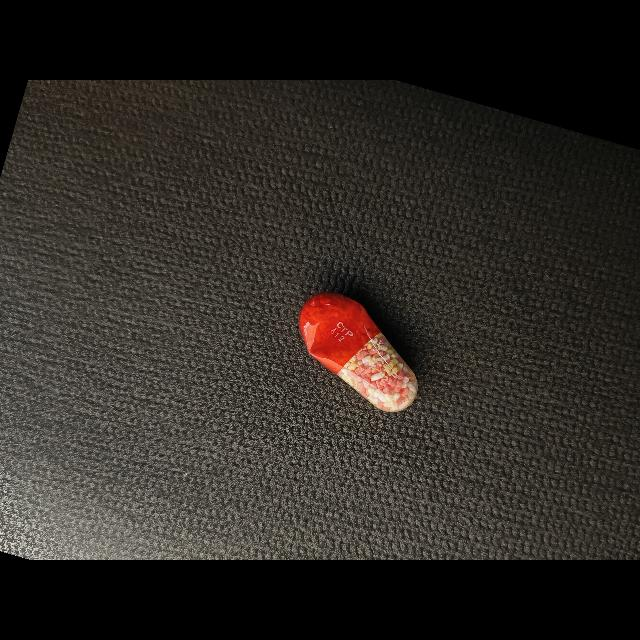Defective Capsule: (299, 293, 418, 412)
